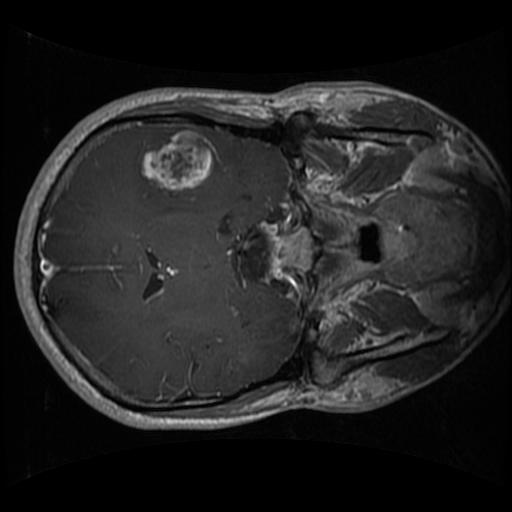glioma: (138, 125, 217, 194)
